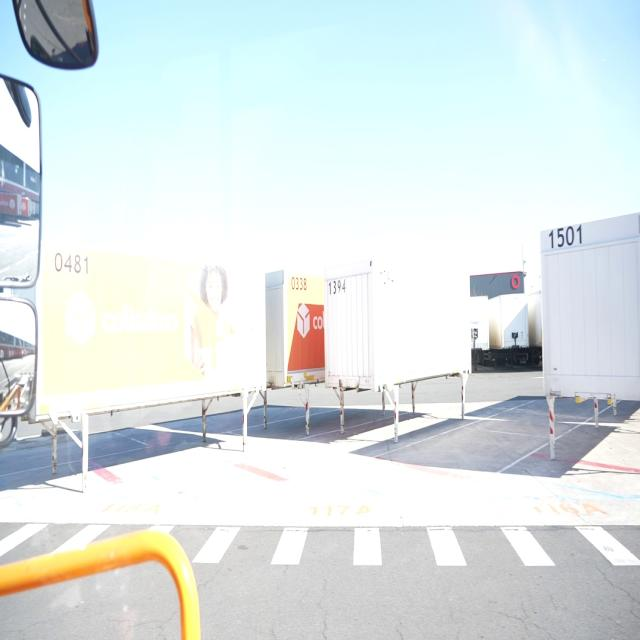Code: (544, 224, 588, 253), (54, 250, 90, 278), (286, 272, 315, 290), (325, 278, 349, 297)
